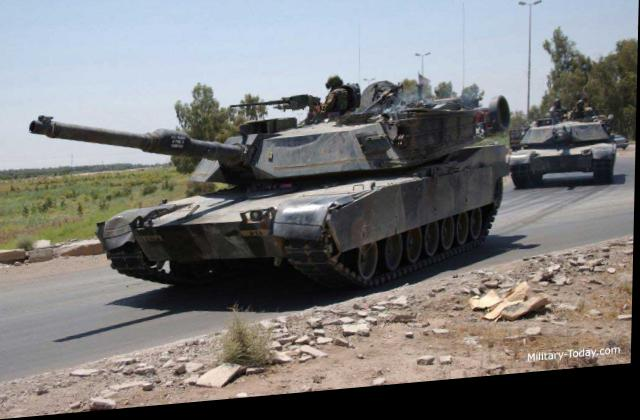tank: (92, 70, 527, 307)
